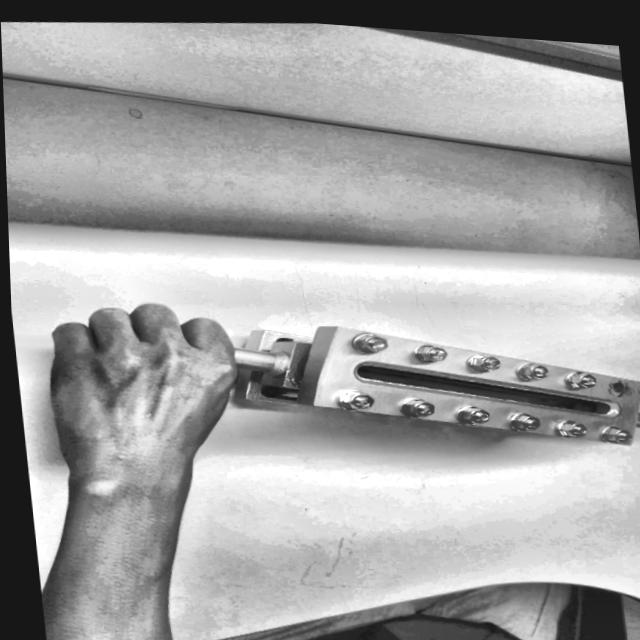ShuiWeiQi_11: (223, 235, 640, 505)
